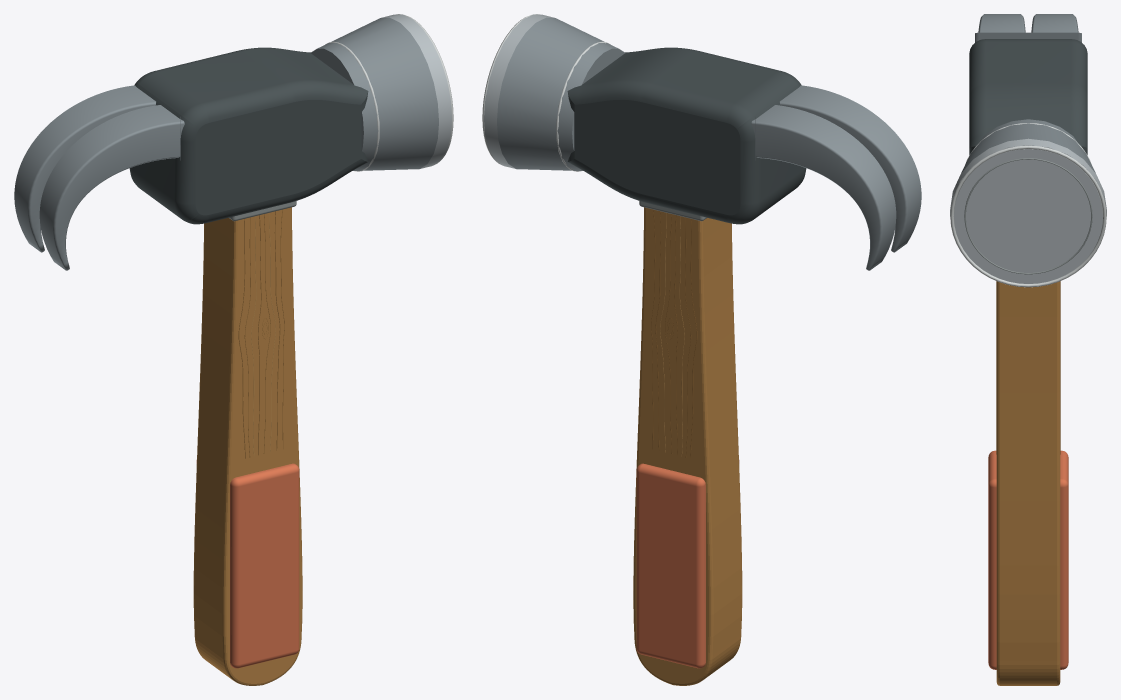
Rendered from workshop-hammer-natural.glb.
3 views of the same model, side by side, from view 1: azimuth 30°, elevation 25°; view 2: azimuth 150°, elevation 25°; view 3: azimuth 270°, elevation 25° (orthographic).
Parts seen in each view (by area): view 1: Wood_Handle, steelInset, Grip_Front, steel, Claw_Back, Claw_Front, steelEdge; view 2: Wood_Handle, steelInset, Grip_Back, steel, Claw_Front, Claw_Back, steelEdge; view 3: Wood_Handle, steelEdge, steelInset, steel, Grip_Front, Grip_Back, Polished_Striking_Rim, Claw_Front, Claw_Back, Machined_Face_Groove.
Part boxes in pixels (x1,y1,x2,y2): Wood_Handle: [193, 207, 302, 685]; steelInset: [129, 47, 368, 224]; Grip_Front: [230, 463, 299, 668]; steel: [180, 17, 438, 170]; Claw_Back: [39, 105, 184, 270]; Claw_Front: [14, 85, 155, 252]; steelEdge: [381, 14, 451, 168]; Wood_Handle: [633, 207, 742, 685]; steelInset: [567, 47, 806, 224]; Grip_Back: [636, 463, 705, 668]; steel: [497, 17, 755, 170]; Claw_Front: [751, 105, 896, 270]; Claw_Back: [780, 85, 921, 252]; steelEdge: [484, 14, 554, 168]; Wood_Handle: [996, 281, 1060, 685]; steelEdge: [950, 138, 1106, 283]; steelInset: [969, 39, 1087, 154]; steel: [961, 32, 1095, 173]; Grip_Front: [988, 450, 996, 669]; Grip_Back: [1060, 450, 1068, 669]; Polished_Striking_Rim: [950, 145, 1106, 287]; Claw_Front: [1031, 14, 1078, 32]; Claw_Back: [978, 14, 1025, 32]; Machined_Face_Groove: [964, 158, 1092, 274].
Size of the model in its own units: 0.2649 by 0.408 by 0.094.
